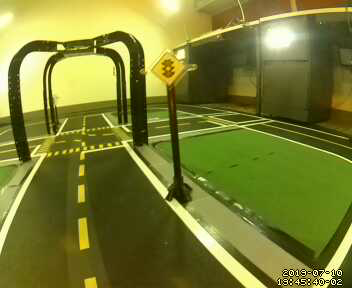Traffic light sign: (153, 51, 185, 84)
